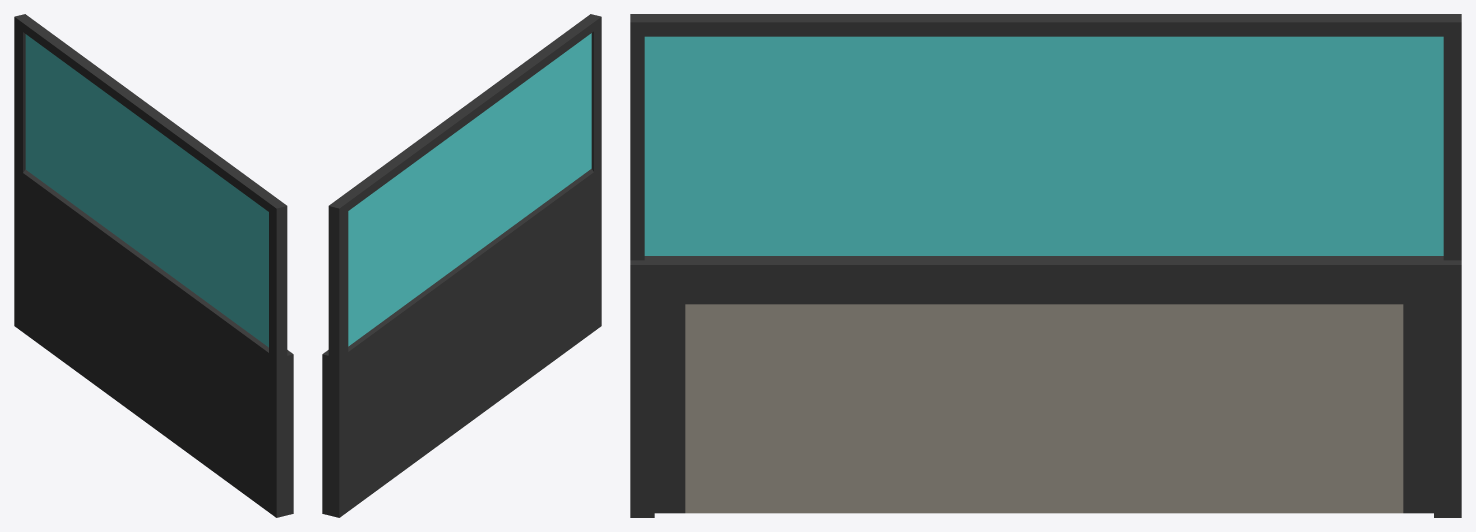
Rendered from Shop divider.fbx.
3 views of the same model, side by side, from view 1: azimuth 30°, elevation 25°; view 2: azimuth 150°, elevation 25°; view 3: azimuth 270°, elevation 25° (orthographic). The views are drawn at different scales.
Visible parts, largest first — view 1: Cube; view 2: Cube; view 3: Cube.
Part boxes in pixels (x1,y1,x2,y2): Cube: [14, 14, 293, 517]; Cube: [322, 14, 601, 517]; Cube: [630, 14, 1461, 517].
Size of the model in its own units: 41.87 by 722 by 1108.
